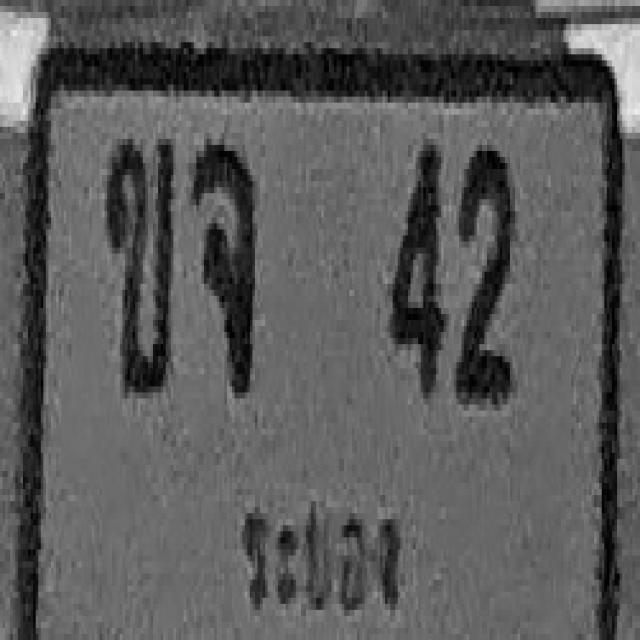11KhorKhai: (104, 133, 174, 392)
17ChorChan: (191, 139, 255, 392)
2: (455, 145, 514, 398)
4: (390, 139, 444, 392)
Rayong: (233, 462, 412, 631)
